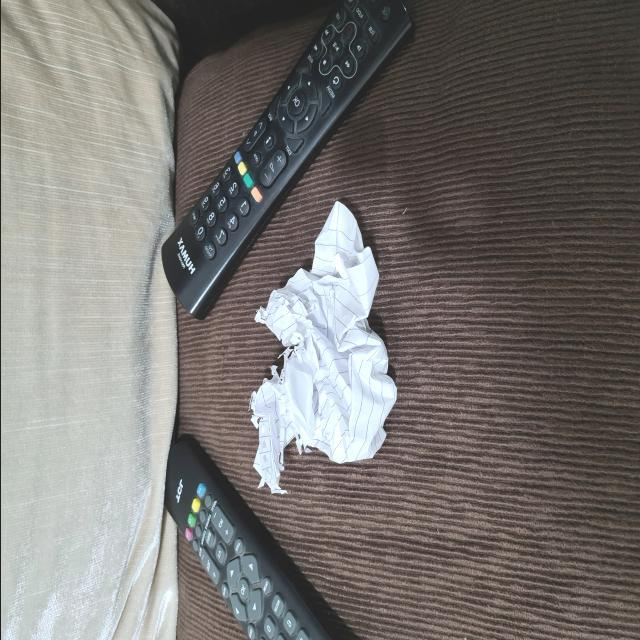Paper: (250, 201, 408, 491)
